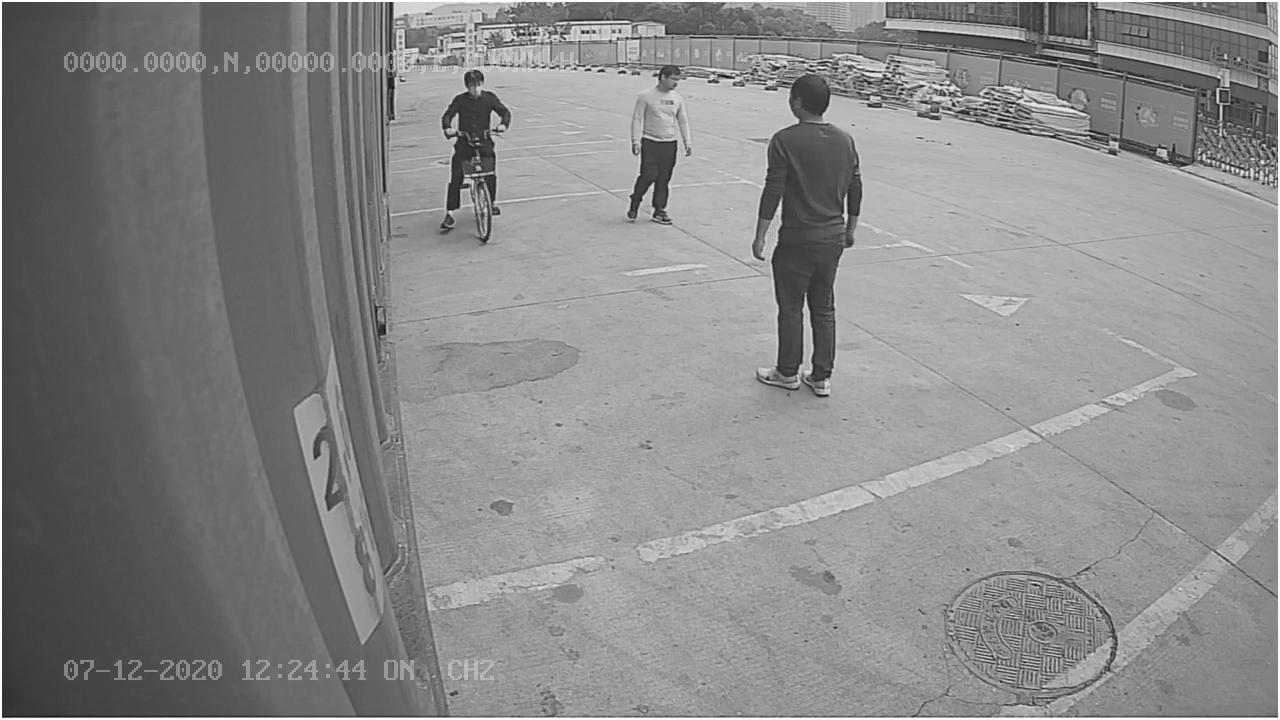person: (749, 71, 868, 401), (618, 62, 699, 226)
